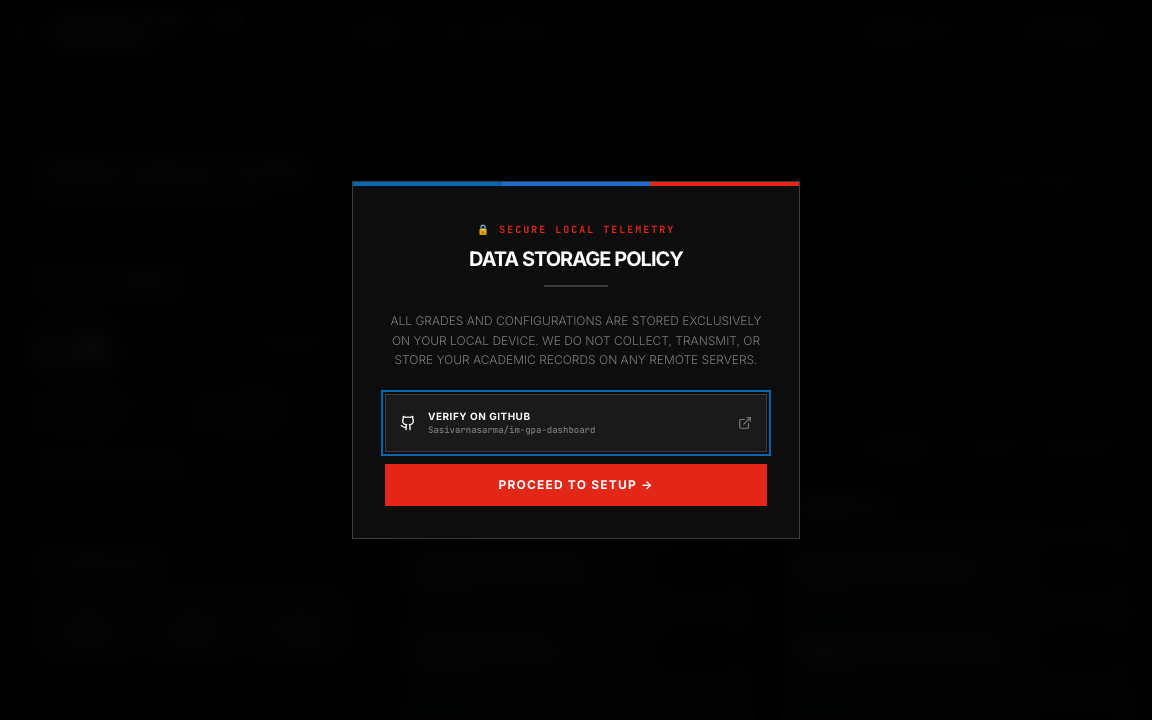
App — announcements › waits for security and degree onboarding to finish before showing the announcement
Expected: the dialog "Your results, ready to share" is not shown
Click the button "PROCEED TO SETUP →" at [576, 485], box top-left (385, 464), bottom-right (767, 506)
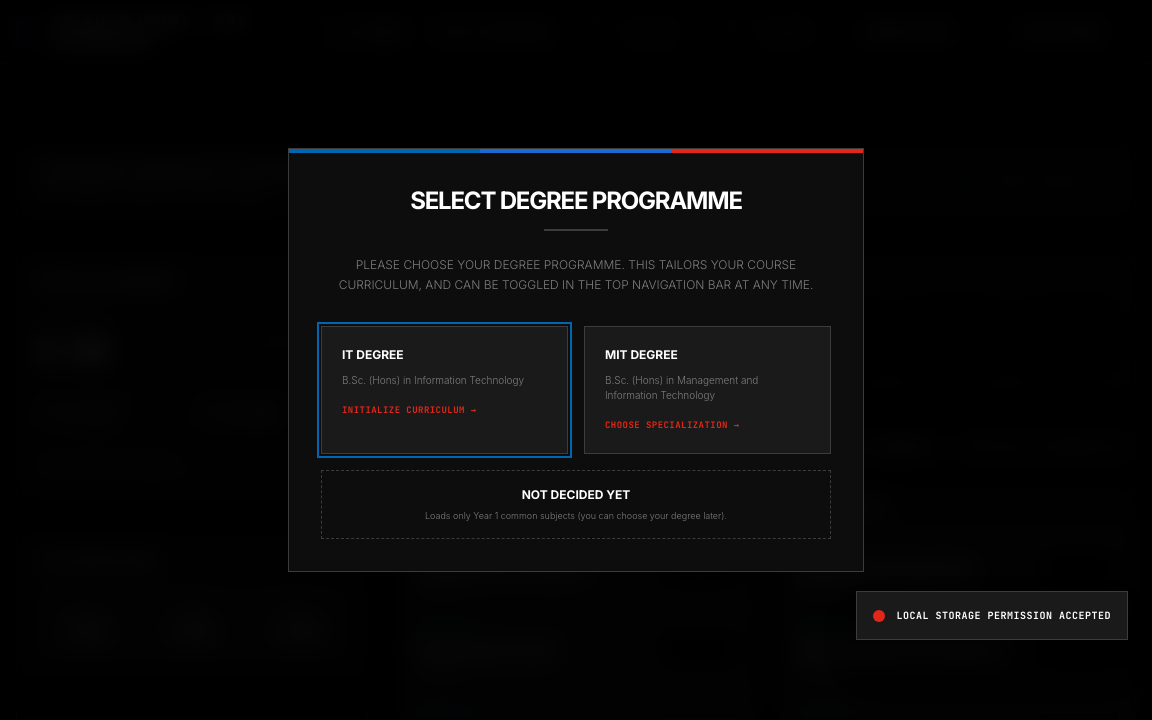
Expected: the dialog "Your results, ready to share" is not shown
Result: the dialog "SELECT DEGREE PROGRAMME" is shown at top-left (288, 148), bottom-right (864, 572)
Click the button "IT DEGREE" at [444, 390], box top-left (321, 326), bottom-right (568, 454)
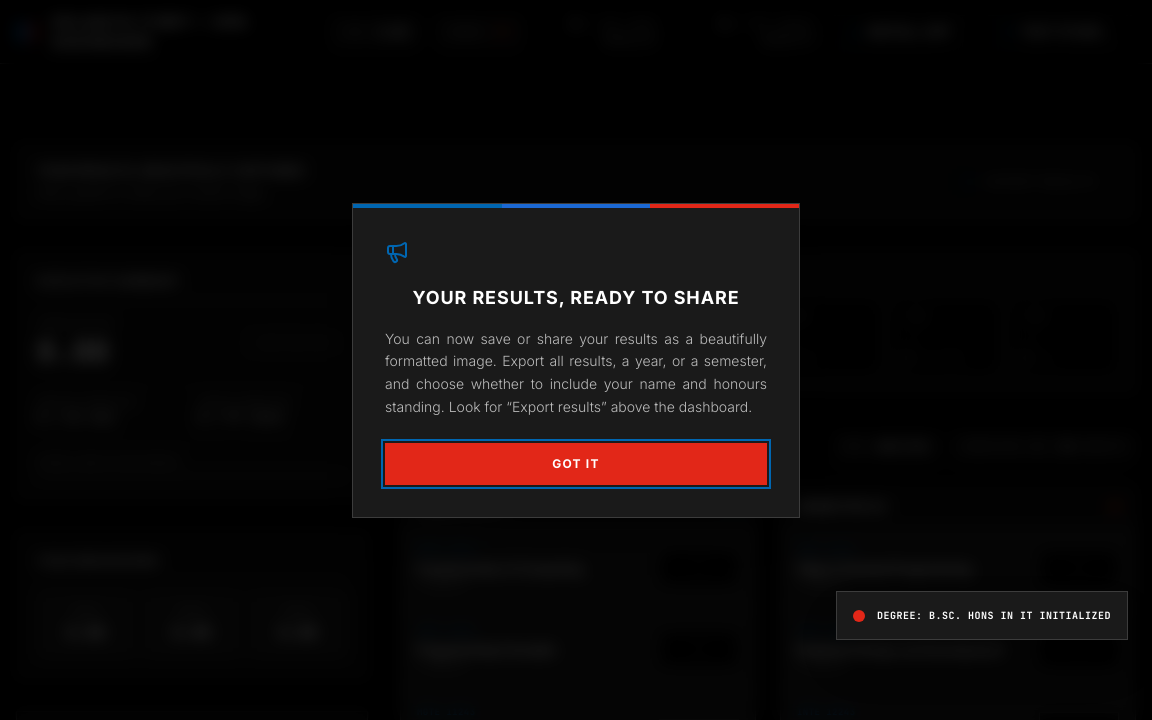
Result: the dialog "Your results, ready to share" is shown at top-left (352, 202), bottom-right (800, 518)
